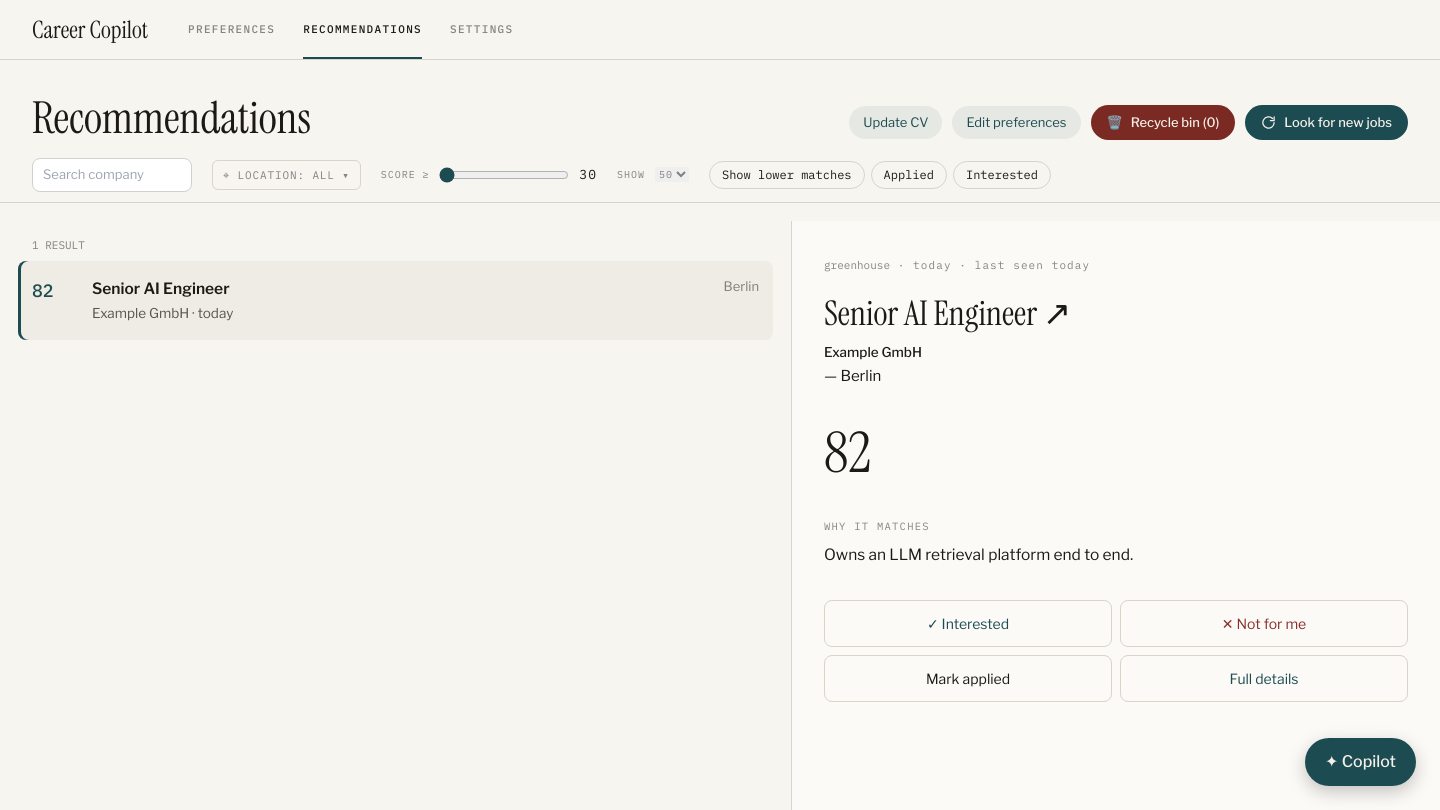
review screen › shows no machinery text on the list or the card
Expected: the button with aria-label "Select: Senior AI Engineer" is shown, [18,261,773,340]
Click the button with aria-label "Details: Senior AI Engineer": click(1264, 678) [1120,655,1408,702]
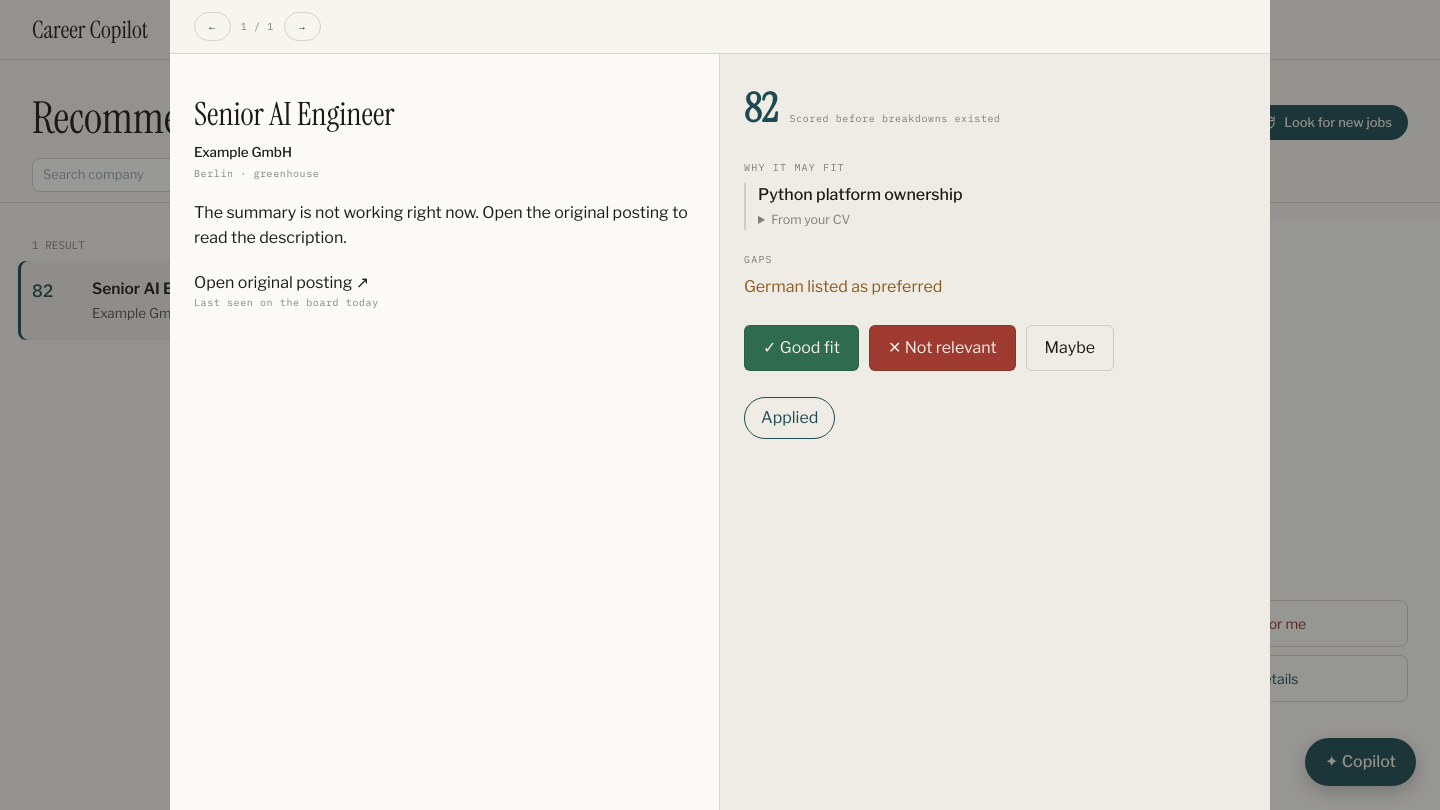
Expected: the text "Python platform ownership" is shown, [758,185,963,204]
